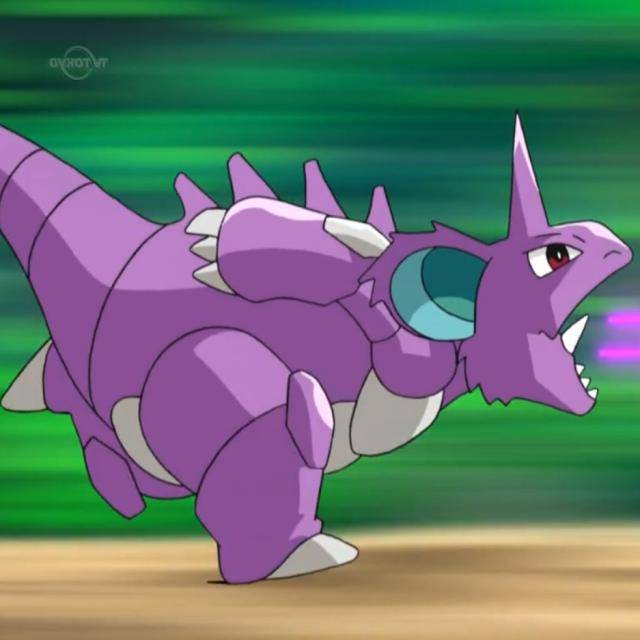Nidoking: (41, 155, 628, 556)
